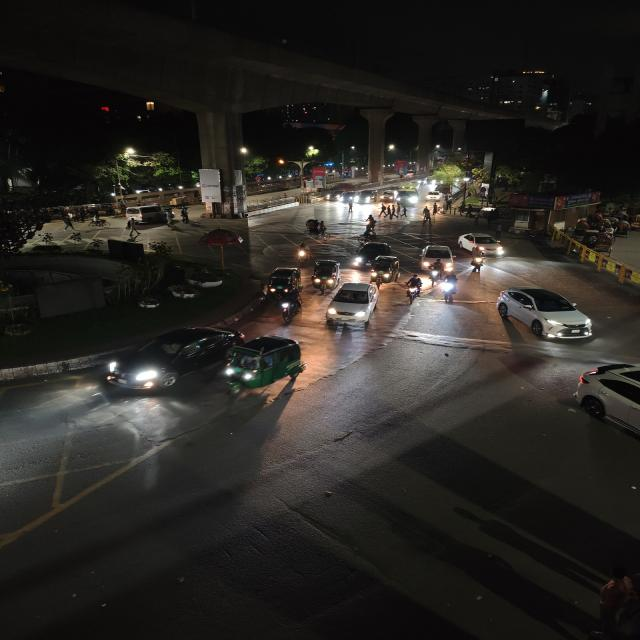bicycle: (85, 213, 112, 230)
bus: (396, 180, 423, 207)
car: (99, 324, 242, 394), (568, 359, 640, 470), (493, 284, 601, 347), (322, 280, 381, 332), (461, 231, 508, 257), (417, 243, 457, 271), (353, 240, 396, 266), (122, 204, 164, 220), (378, 188, 398, 203), (324, 190, 346, 202), (356, 190, 376, 203)
cng: (222, 333, 308, 397), (256, 264, 304, 304), (308, 258, 342, 292), (369, 255, 403, 284)
motorcycle: (267, 273, 306, 325), (436, 272, 461, 302), (404, 272, 425, 301), (467, 253, 487, 275), (294, 239, 312, 263)
pedestrian: (592, 566, 640, 640), (122, 217, 144, 237), (362, 214, 380, 237), (178, 206, 195, 224), (164, 210, 176, 228), (420, 207, 432, 224), (398, 203, 409, 220), (344, 199, 356, 213), (492, 223, 504, 237), (378, 202, 388, 218), (384, 202, 393, 218), (389, 201, 397, 219)
rickshaw: (302, 216, 328, 238), (425, 191, 442, 203)
